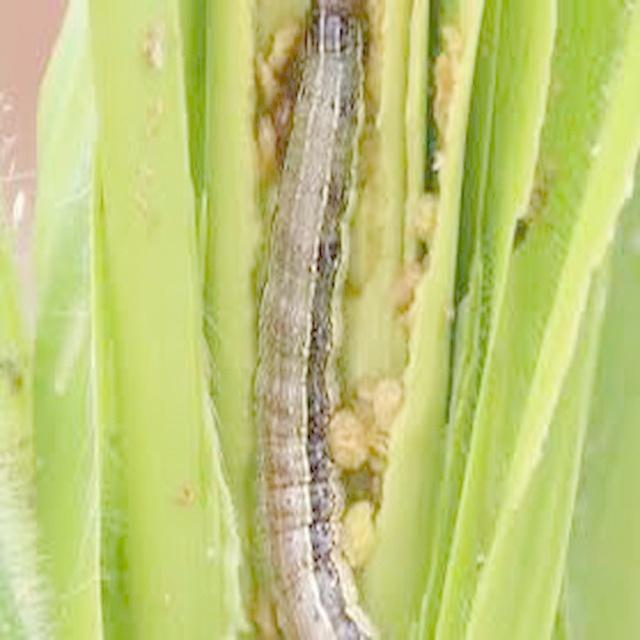worm: (249, 1, 390, 640)
